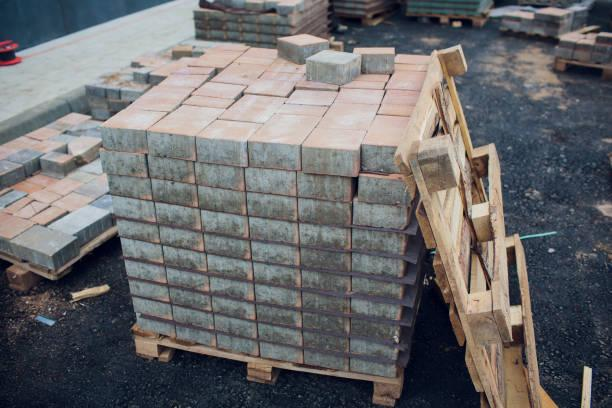Bricks: (147, 102, 222, 138), (250, 113, 324, 149), (219, 91, 291, 127), (319, 101, 380, 134), (308, 48, 363, 83), (360, 116, 413, 152), (100, 104, 168, 132), (212, 59, 271, 89), (196, 120, 263, 146), (137, 82, 193, 112), (187, 44, 247, 70), (141, 129, 196, 157), (373, 88, 421, 119), (193, 188, 250, 213), (304, 128, 363, 151), (255, 57, 307, 83), (293, 176, 347, 201), (285, 89, 340, 113), (247, 196, 293, 223), (300, 147, 349, 172), (332, 83, 383, 107), (290, 204, 350, 224), (193, 166, 248, 187), (198, 80, 244, 105), (300, 230, 352, 252), (196, 140, 238, 166), (250, 144, 302, 165), (354, 249, 396, 275), (101, 126, 146, 149), (182, 92, 233, 112), (248, 76, 296, 97), (103, 153, 146, 176), (157, 181, 196, 206), (245, 173, 289, 195), (255, 246, 299, 268), (148, 158, 190, 181), (304, 294, 351, 314), (362, 181, 408, 201), (167, 290, 213, 310), (354, 235, 405, 253), (254, 307, 302, 326), (210, 258, 253, 279), (252, 220, 293, 242), (305, 271, 347, 292), (253, 288, 297, 308), (215, 298, 259, 318), (166, 269, 210, 289), (354, 297, 400, 316), (111, 177, 154, 197), (302, 250, 347, 269), (356, 284, 403, 302), (259, 324, 306, 342), (209, 239, 251, 259), (388, 65, 424, 88), (120, 220, 160, 240), (163, 230, 203, 250), (213, 315, 260, 332), (161, 208, 199, 229), (204, 220, 248, 238), (353, 322, 399, 339), (308, 354, 347, 374), (262, 343, 301, 363), (128, 261, 165, 282), (305, 337, 348, 355), (361, 151, 396, 173), (351, 357, 396, 374), (243, 42, 281, 62), (209, 282, 259, 297), (222, 335, 258, 355), (356, 209, 400, 225), (260, 270, 301, 287), (165, 74, 208, 90), (355, 337, 395, 354), (304, 316, 347, 331), (177, 328, 211, 346), (136, 299, 173, 315), (136, 319, 173, 335), (168, 252, 205, 268), (115, 203, 152, 218), (125, 244, 162, 259), (176, 310, 210, 325), (398, 53, 438, 65), (130, 284, 165, 297), (185, 66, 216, 77)
